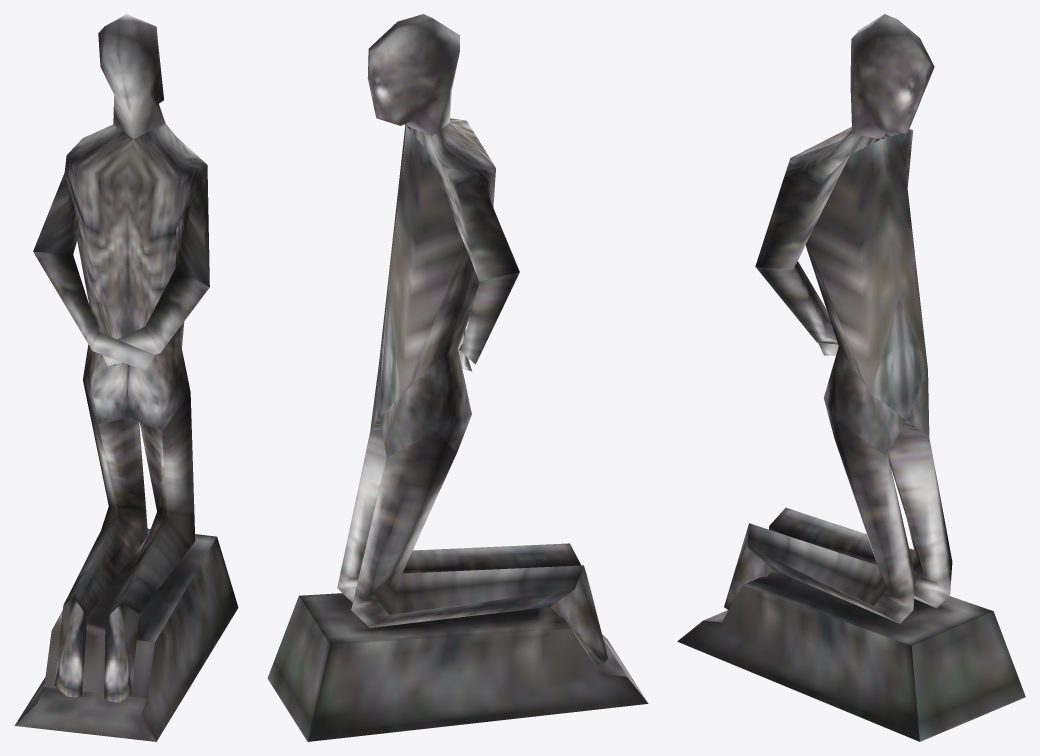
The model's file is obscure.ico.obj.
3 renders of one model, left to right at view 1: azimuth 30°, elevation 25°; view 2: azimuth 150°, elevation 25°; view 3: azimuth 270°, elevation 25°, orthographic. The views are drawn at different scales.
Size of the model in its own units: 2.38 by 5 by 2.4.
